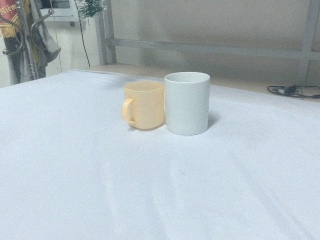cup: (162, 70, 211, 137), (120, 80, 166, 132)
